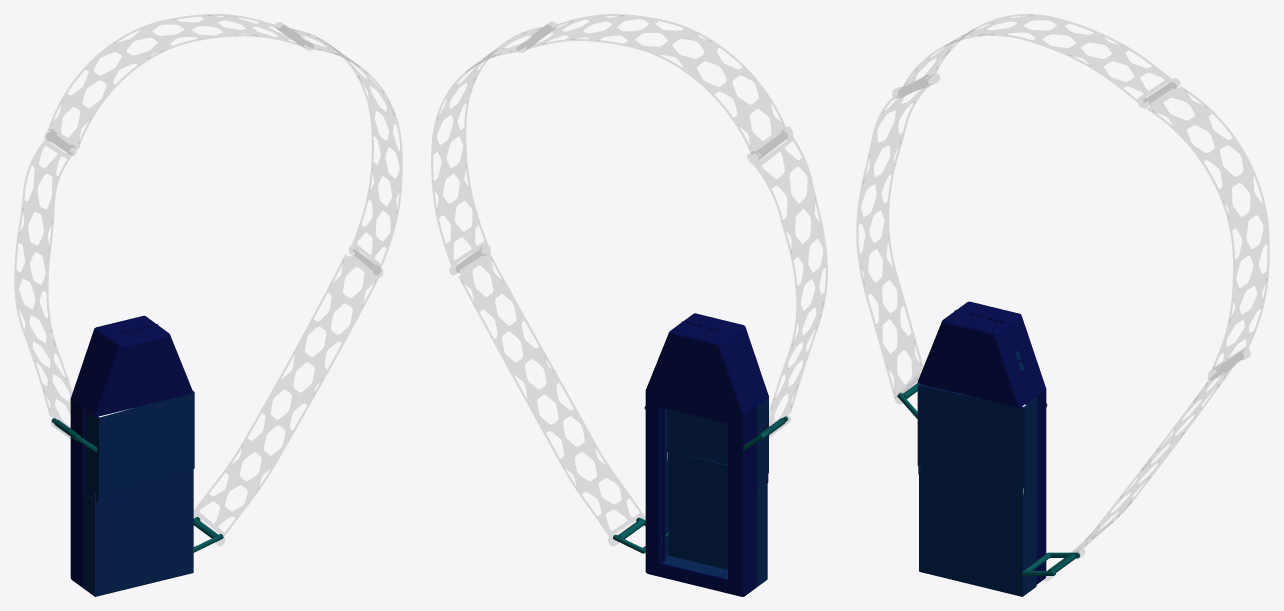
File: for model viewer.glb
3 views of the same model, side by side, from view 1: azimuth 30°, elevation 25°; view 2: azimuth 150°, elevation 25°; view 3: azimuth 330°, elevation 25° (orthographic). The views are drawn at different scales.
Parts seen in each view (by area): view 1: Sardine_casing_Battery(C838BFBF-8159-4D5A-8F8A-39F709981025), Sardine_casing_Battery(DADBD83D-7881-466A-ACE2-91BE8142E3C1), Casing(F30029F3-D22B-4312-AF07-E79A418E66A2), Casing(AF45610A-1AD8-4629-AD1A-A32DA8B704DF); view 2: Casing(AF45610A-1AD8-4629-AD1A-A32DA8B704DF), Sardine_casing_Battery(C838BFBF-8159-4D5A-8F8A-39F709981025), Sardine_casing_Battery(DADBD83D-7881-466A-ACE2-91BE8142E3C1), Casing(F30029F3-D22B-4312-AF07-E79A418E66A2); view 3: Sardine_casing_Battery(C838BFBF-8159-4D5A-8F8A-39F709981025), Sardine_casing_Battery(DADBD83D-7881-466A-ACE2-91BE8142E3C1), Casing(F30029F3-D22B-4312-AF07-E79A418E66A2), Casing(AF45610A-1AD8-4629-AD1A-A32DA8B704DF), Buckle(C949AD57-3C15-4030-9D9A-7F896A976FD3).
Part boxes in pixels (bbox=[...]): Sardine_casing_Battery(C838BFBF-8159-4D5A-8F8A-39F709981025): bbox=[83, 468, 193, 596]; Sardine_casing_Battery(DADBD83D-7881-466A-ACE2-91BE8142E3C1): bbox=[84, 391, 194, 503]; Casing(F30029F3-D22B-4312-AF07-E79A418E66A2): bbox=[83, 324, 193, 416]; Casing(AF45610A-1AD8-4629-AD1A-A32DA8B704DF): bbox=[70, 315, 157, 588]; Casing(AF45610A-1AD8-4629-AD1A-A32DA8B704DF): bbox=[645, 321, 757, 596]; Sardine_casing_Battery(C838BFBF-8159-4D5A-8F8A-39F709981025): bbox=[661, 452, 767, 586]; Sardine_casing_Battery(DADBD83D-7881-466A-ACE2-91BE8142E3C1): bbox=[661, 397, 768, 490]; Casing(F30029F3-D22B-4312-AF07-E79A418E66A2): bbox=[683, 313, 768, 405]; Sardine_casing_Battery(C838BFBF-8159-4D5A-8F8A-39F709981025): bbox=[919, 466, 1036, 596]; Sardine_casing_Battery(DADBD83D-7881-466A-ACE2-91BE8142E3C1): bbox=[917, 383, 1036, 496]; Casing(F30029F3-D22B-4312-AF07-E79A418E66A2): bbox=[917, 311, 1032, 407]; Casing(AF45610A-1AD8-4629-AD1A-A32DA8B704DF): bbox=[927, 301, 1046, 584]; Buckle(C949AD57-3C15-4030-9D9A-7F896A976FD3): bbox=[1021, 552, 1079, 575].
Size of the model in its own units: 0.2631 by 0.3703 by 0.0509.
